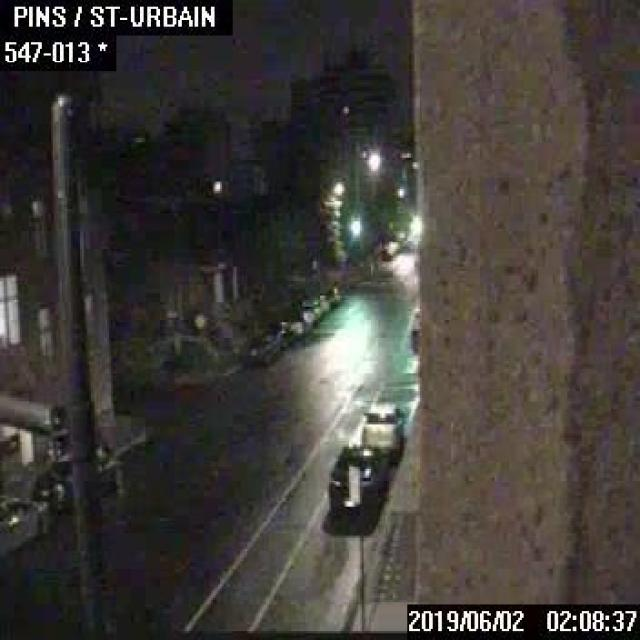vehicle: (33, 449, 118, 513), (326, 444, 387, 511), (0, 495, 47, 562), (361, 400, 406, 449), (243, 334, 280, 364), (278, 312, 305, 334), (316, 282, 342, 304), (300, 299, 326, 320), (268, 325, 292, 345), (406, 300, 414, 353)
